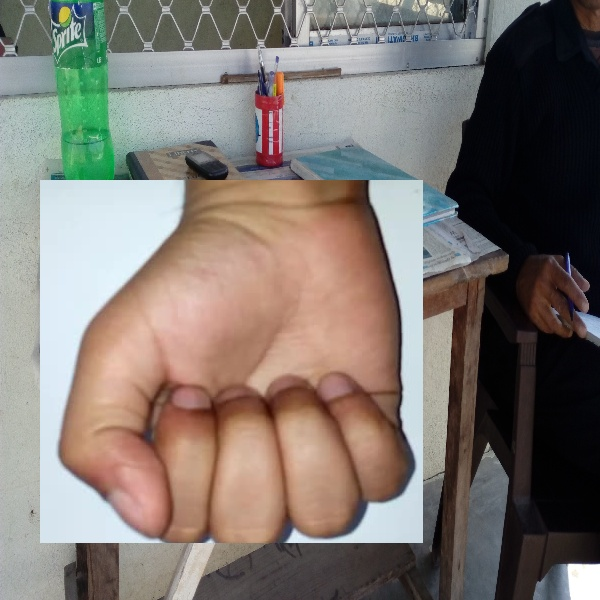F: (40, 180, 423, 543)
